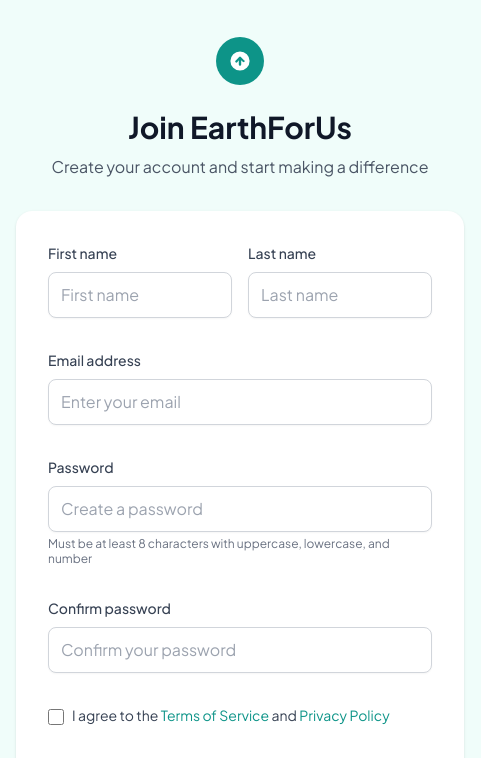
it: SignupPage Component › Form Submission › should handle signup error response
// Fill form
In the field labelled "First name": coordinates (140, 294) [48,272,232,318], type "John"
In the field labelled "Last name": coordinates (340, 294) [248,272,432,318], type "Doe"
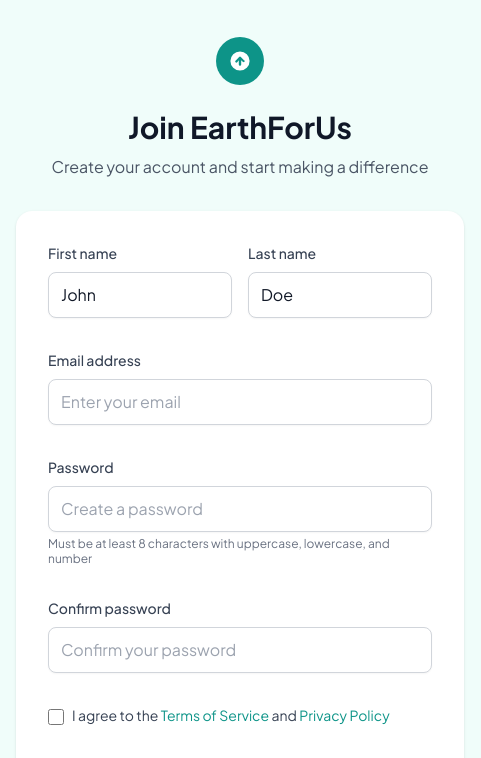
In the field labelled "Email address": coordinates (240, 402) [48,378,432,424], type "john@example.com"
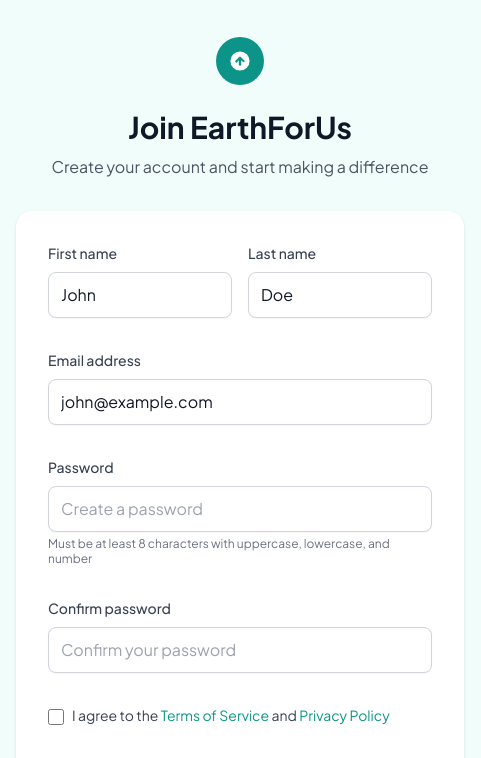
In the password field labelled "Password": coordinates (240, 508) [48,486,432,532], type "Password123"
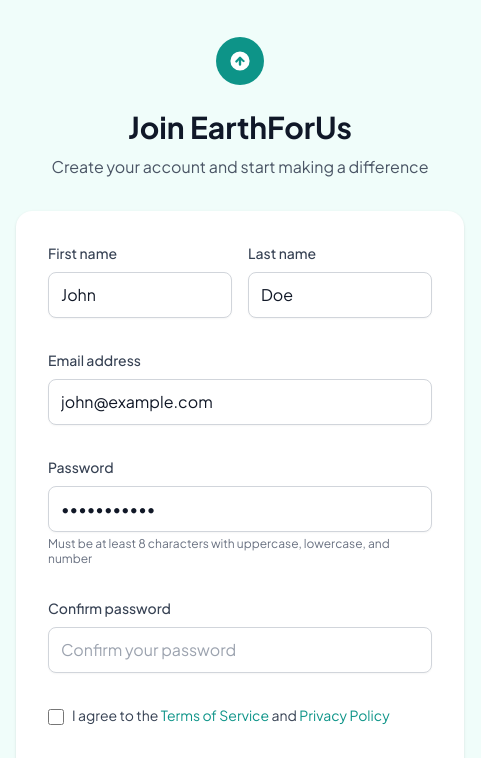
In the password field labelled "Confirm password": coordinates (240, 650) [48,626,432,672], type "Password123"
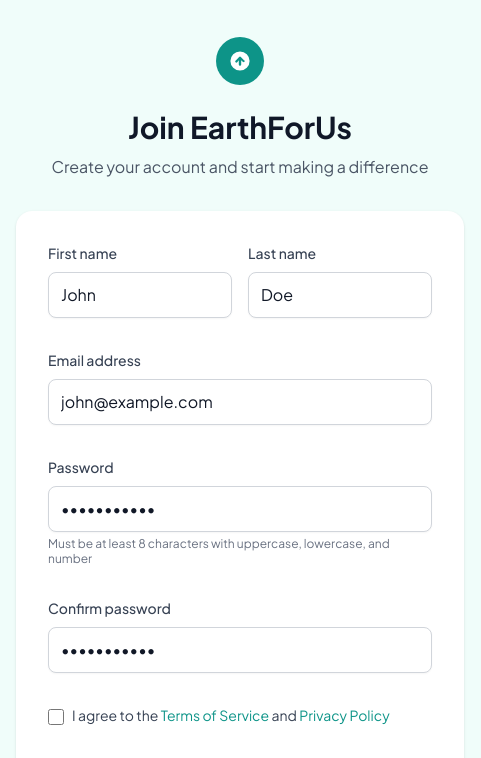
Click the checkbox labelled "I agree to the Terms of Service and Privacy Policy": coordinates (56, 716) [48,708,64,724]
(page scrolled)
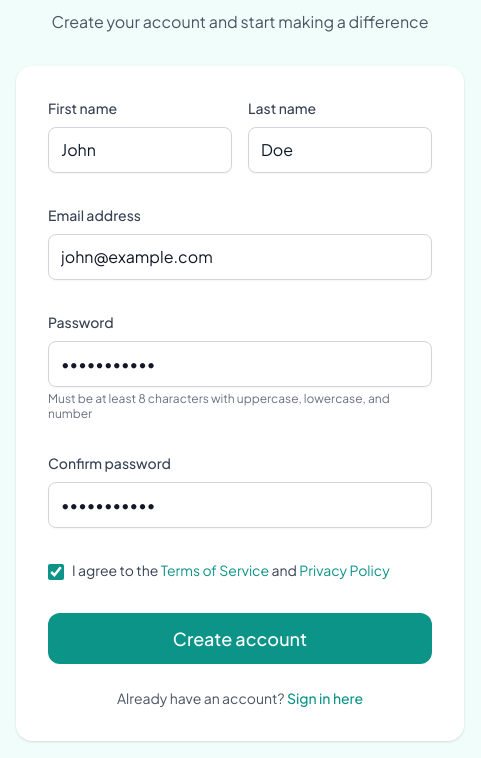
// Submit form
Click the button "Create account": coordinates (240, 638) [48,612,432,664]
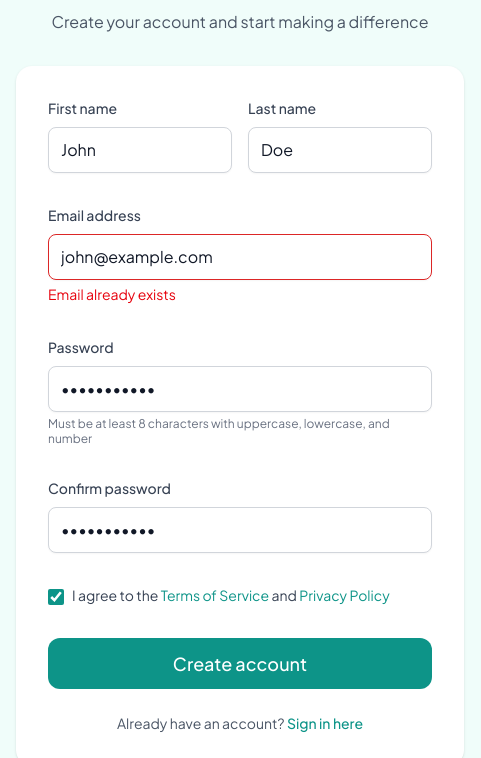
Now the text "Email already exists" is shown, box [48,284,176,302]
